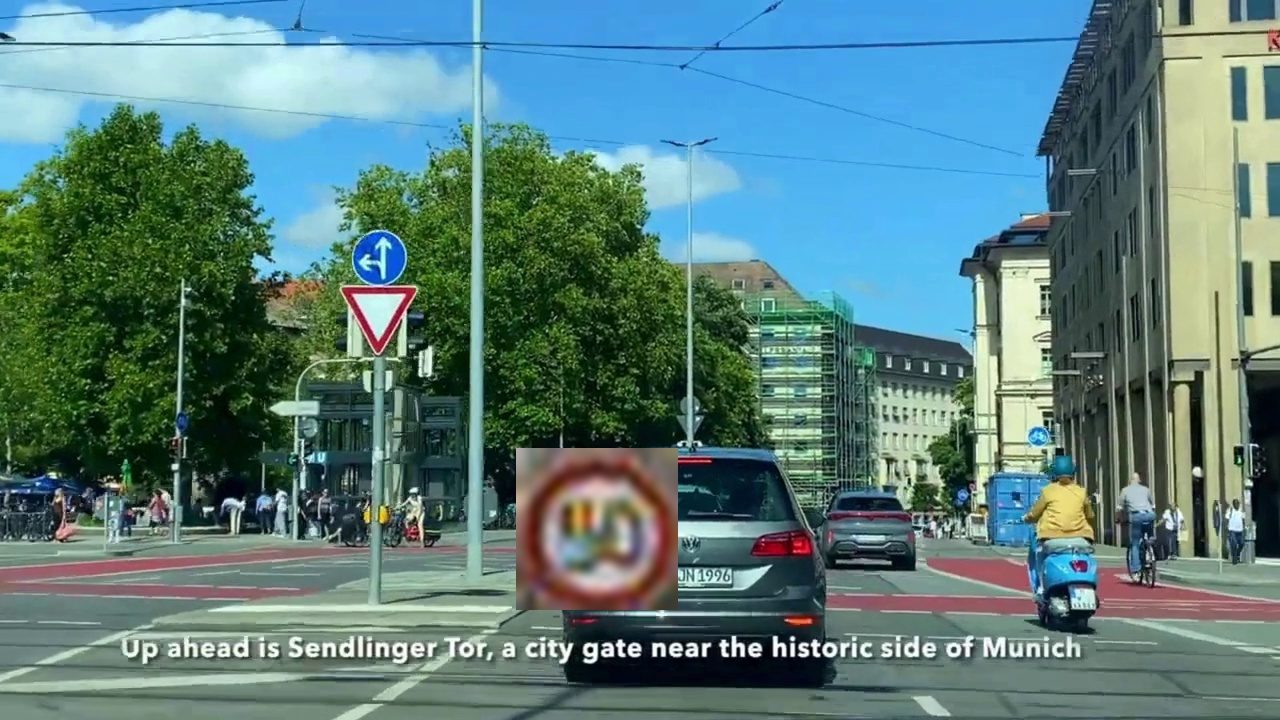Speed 50: (516, 448, 678, 610)
